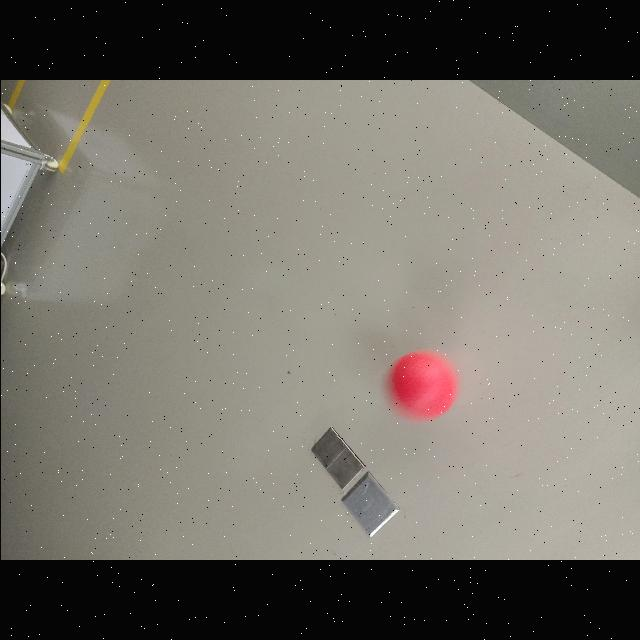R: (386, 350, 458, 420)
